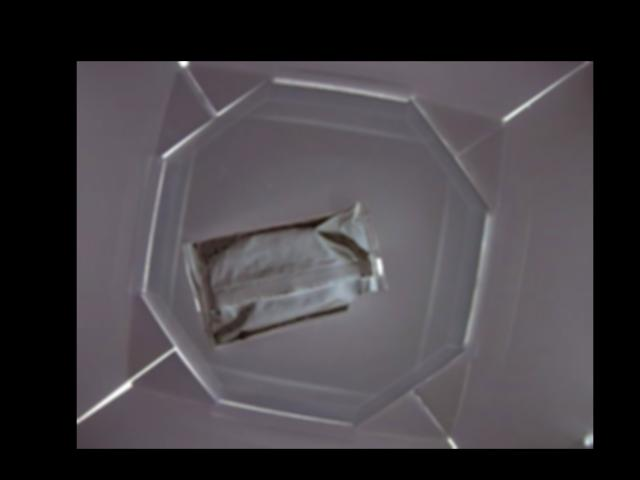Medicine: (184, 200, 389, 348)
